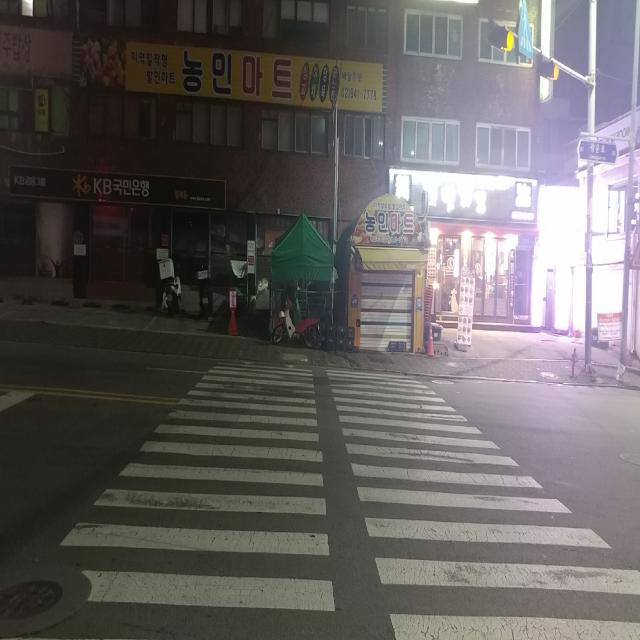횡단보도: (58, 357, 640, 640)
